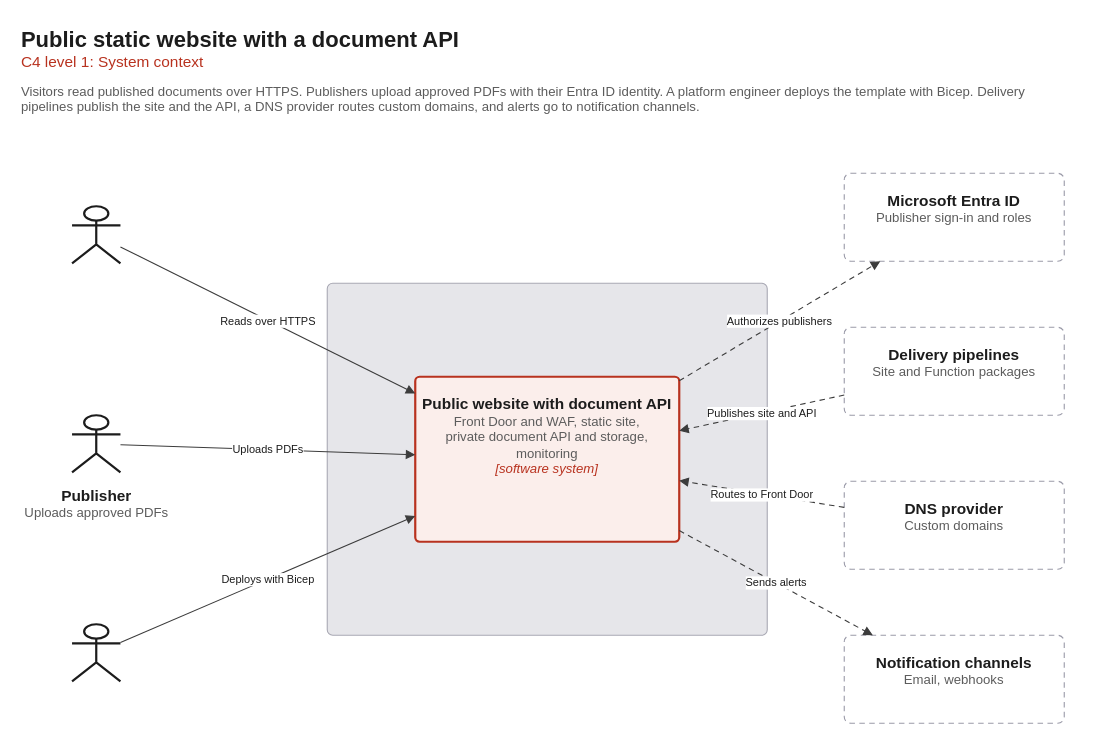
This 1093x748 diagram has some shape labels left out. The shapes that lost their labels are listed below. From the top down, each one's box as (x1, y1, x2, y2) in pixels, then its label:
(70, 205, 121, 264): Public visitor Reads documents
(326, 282, 767, 635): Public website system Â· one per environment
(70, 623, 121, 682): Platform engineer Deploys and operates
